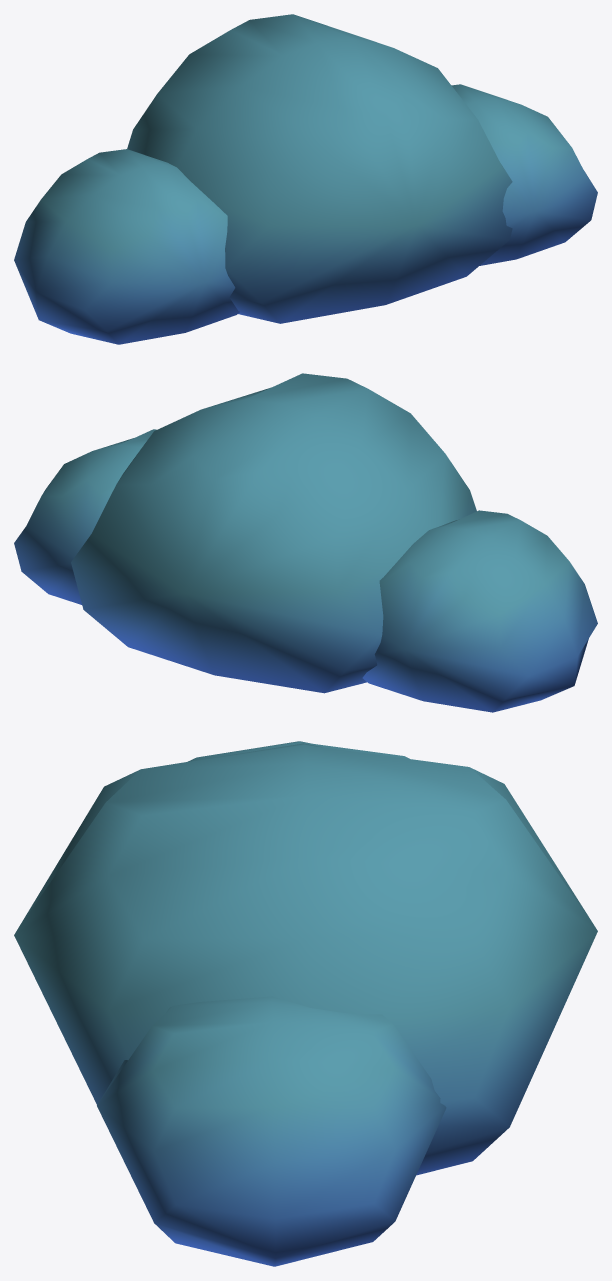
Rendered from облако.fbx.
The picture shows the model from 3 angles, top to bottom: view 1: azimuth 30°, elevation 25°; view 2: azimuth 150°, elevation 25°; view 3: azimuth 270°, elevation 25°; orthographic projection. The views are drawn at different scales.
Parts seen in each view (by area): view 1: Cube.072; view 2: Cube.072; view 3: Cube.072.
Part boxes in pixels (box(x1,y1,x2,y2)): Cube.072: box(14, 14, 597, 344); Cube.072: box(14, 373, 597, 712); Cube.072: box(14, 741, 597, 1266).
Bounding box in the file's own units: 281 × 122 × 176.
